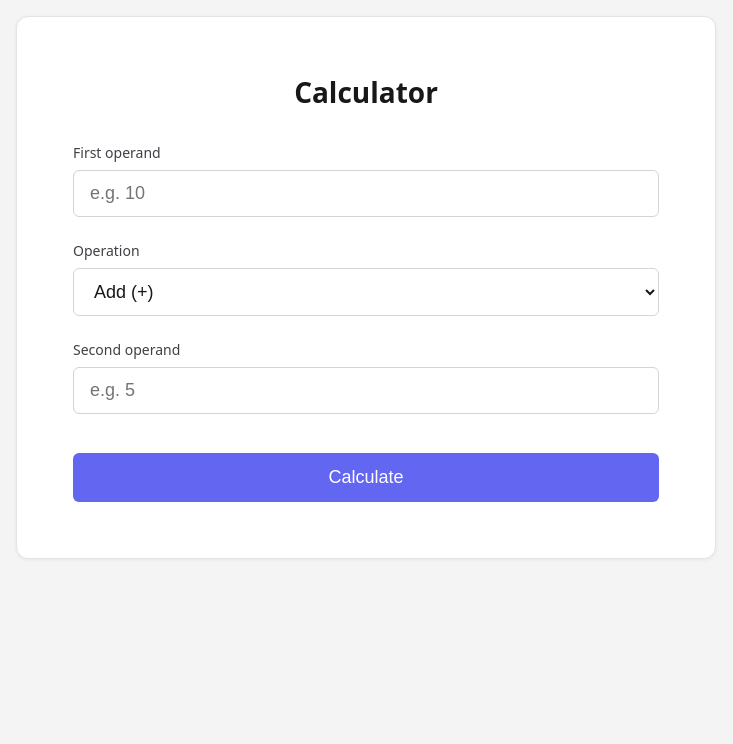
App › clears previous result when a new submission is made
The width and height of the screenshot is (733, 744).
Type "10" into the field labelled "First operand" at (366, 194), box [73,170,659,217]
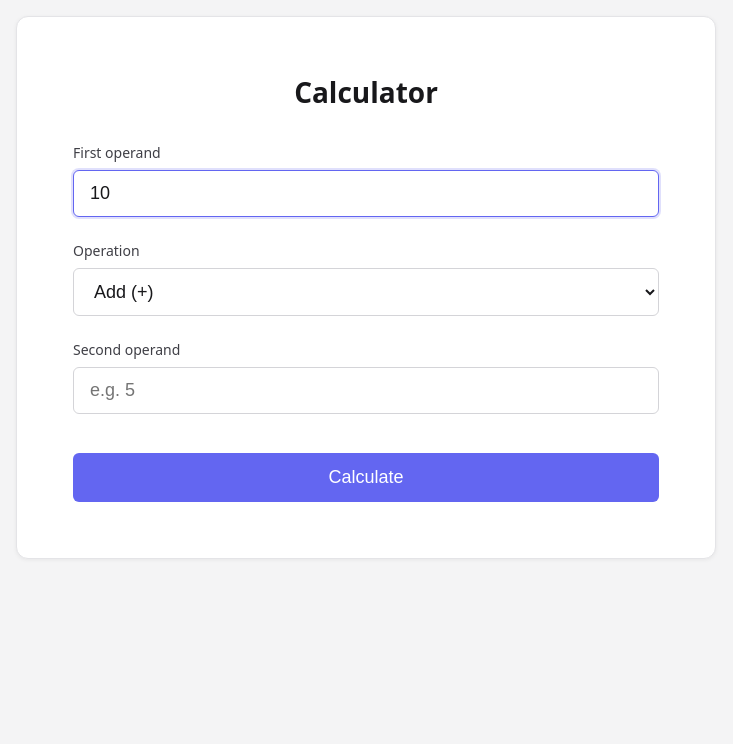
Type "5" into the field labelled "Second operand" at (366, 390), box [73,367,659,414]
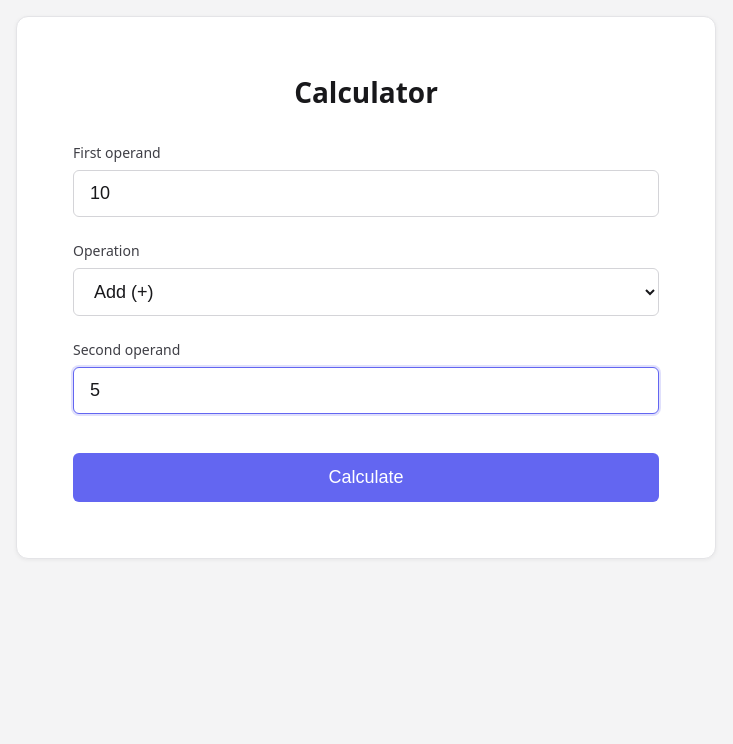
Click the button "Calculate" at (366, 478), box [73,453,659,502]
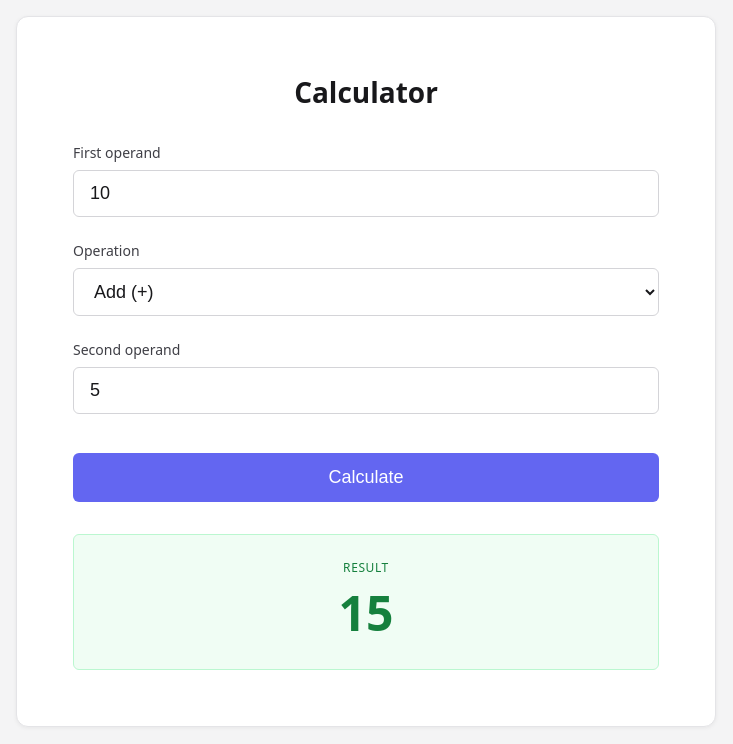
Check: the message shows "15", box [338,580,393,645]
Click the button "Calculate" at (366, 478), box [73,453,659,502]
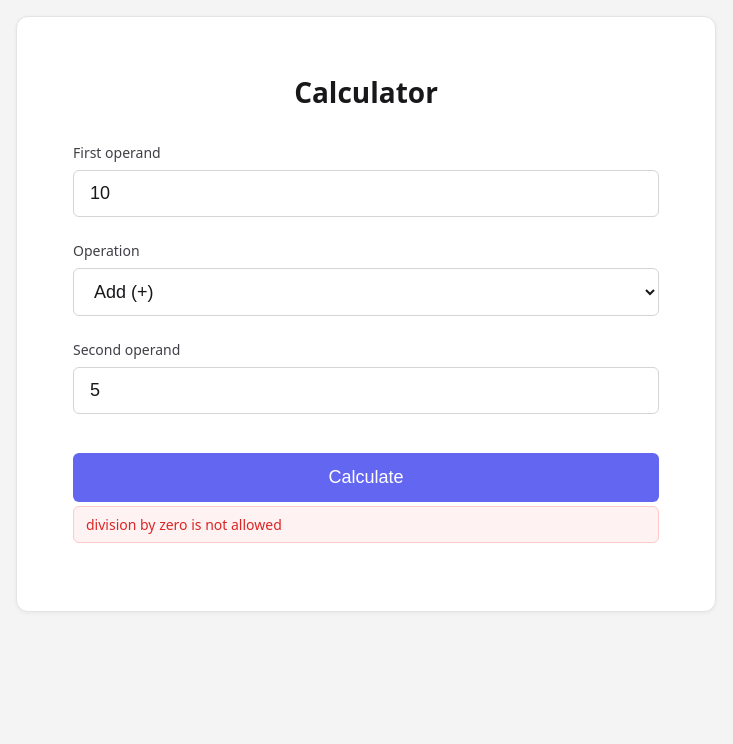
Check: the message reads "division by zero is not allowed", box [86,515,282,534]
